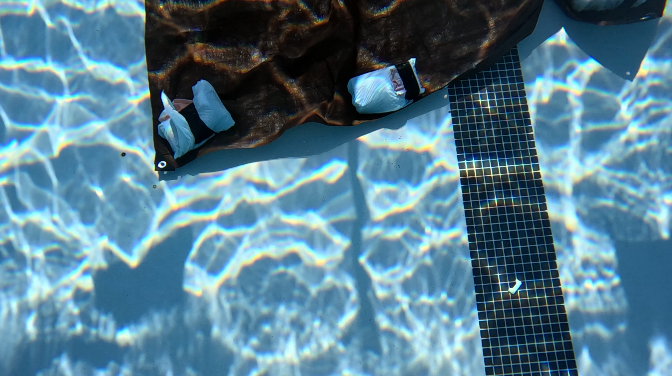sandbag: (145, 0, 666, 171)
